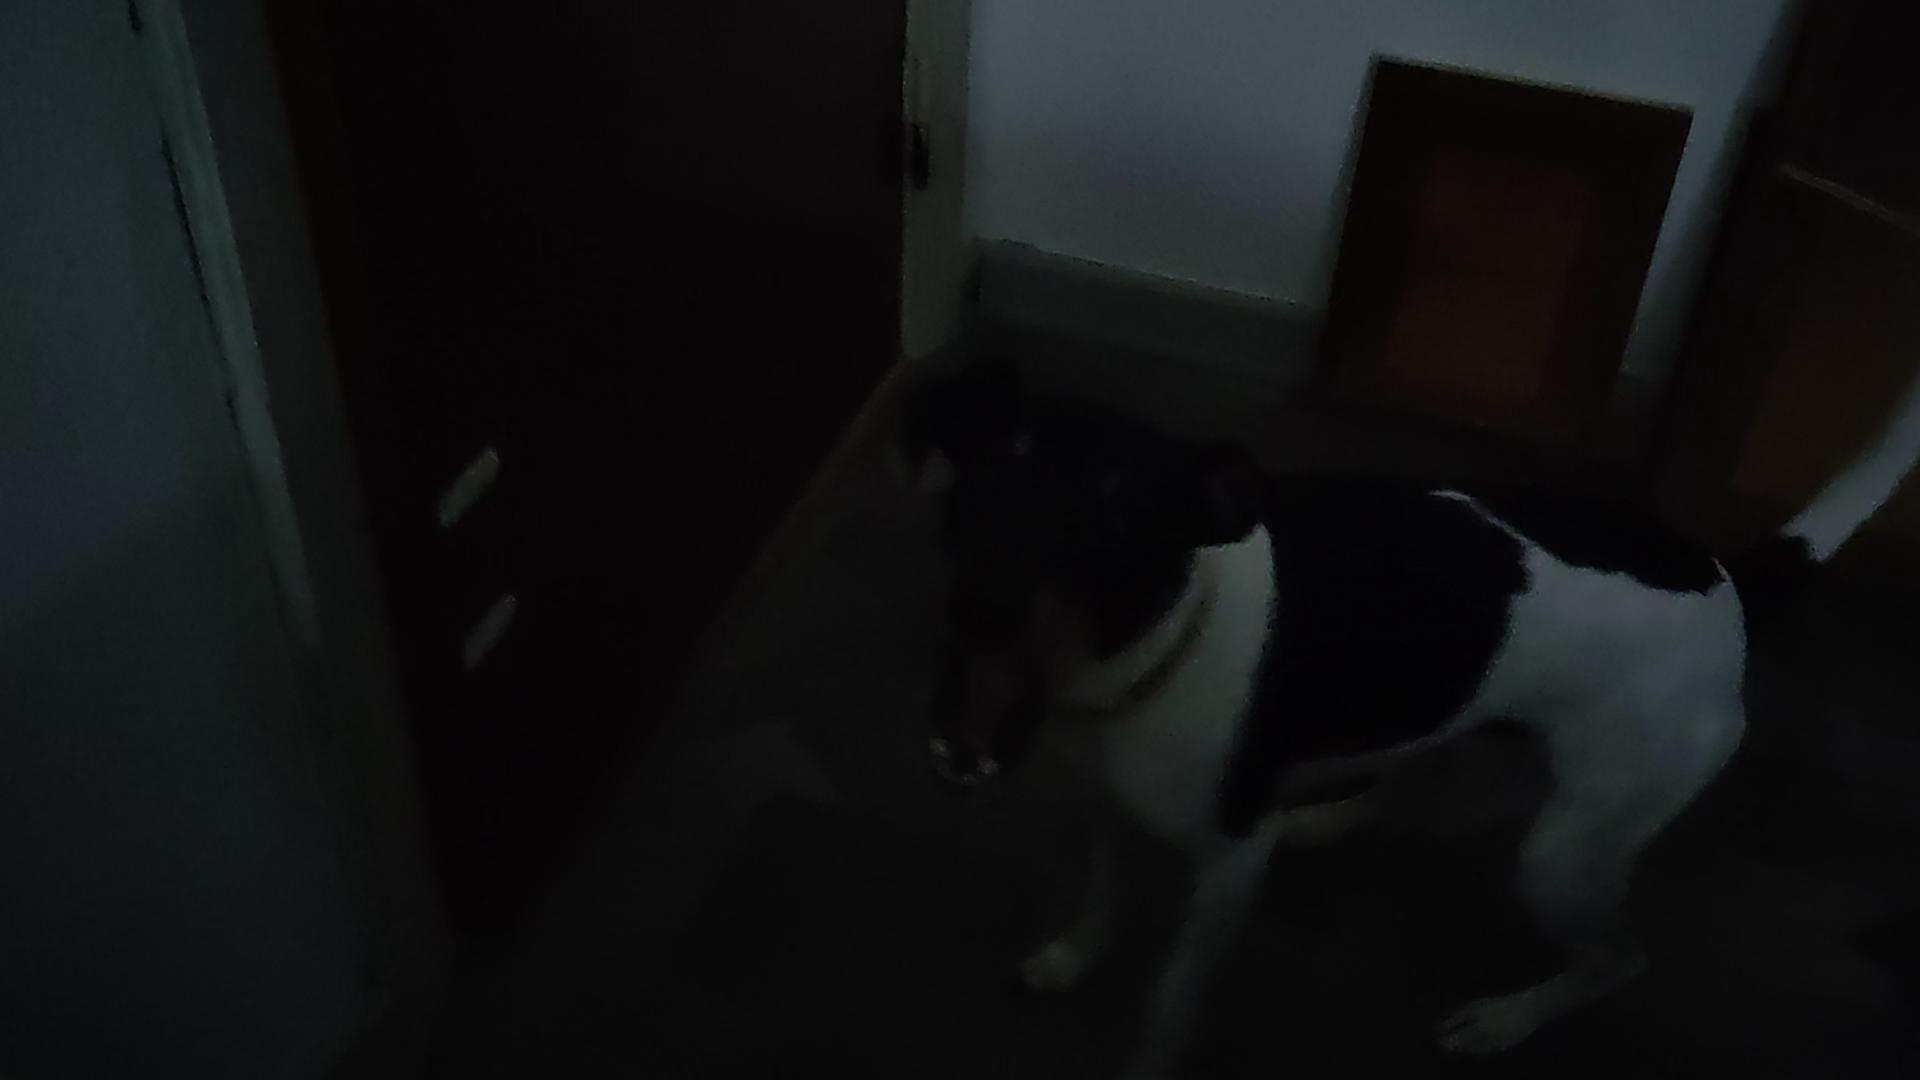Dog: (870, 331, 1919, 1079)
